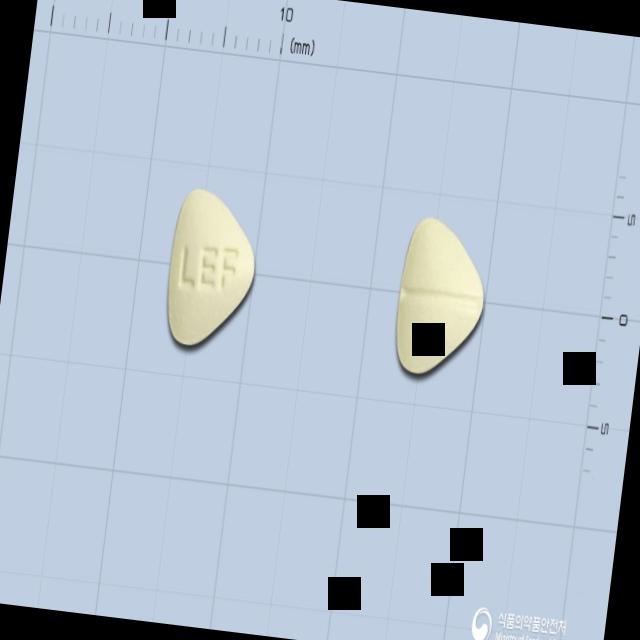Hanlim Leflunomide: (159, 187, 264, 356)
